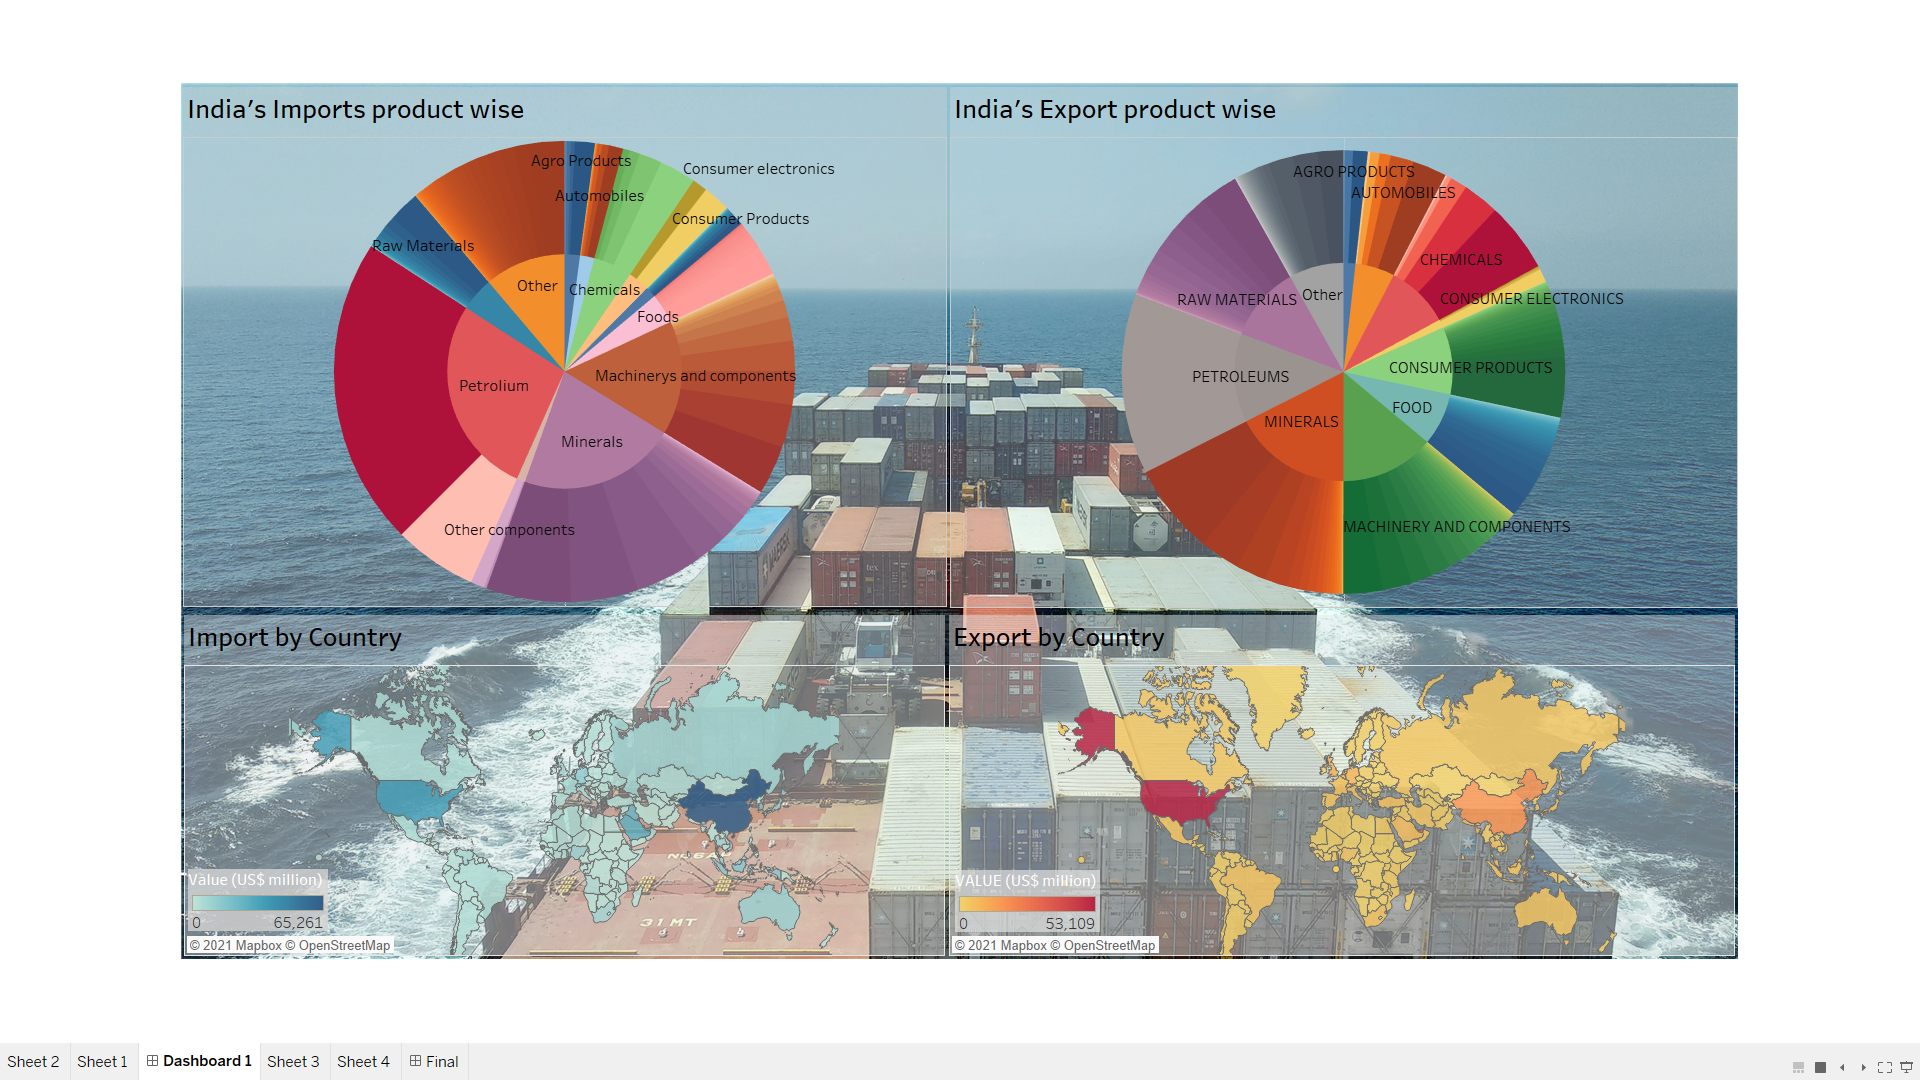

Layout of this report page (visuals, bound fields, positions):
{"tool":"tableau","page":{"name":"Dashboard 1","canvas":[1600,900],"ordinal":0},"visuals":[{"type":"worksheet","box":[0,0,1600,900]},{"type":"worksheet","param":"horz","box":[8,8,1584,884]},{"type":"worksheet","box":[8,8,1584,884]},{"type":"worksheet","param":"C:/Users/giday/Downloads/rinson-chory-aJgw1jeJcEY-unsplash.jpg","box":[8,8,1584,884]},{"type":"worksheet","title":"Sheet 1","mark":"Pie","cols":["Calculation_536209865393254403","Calculation_536209865393254403"],"box":[23,16,764,520]},{"type":"worksheet","title":"Sheet 2","mark":"Pie","cols":["Calculation_751538224571080705","Calculation_751538224571080705"],"box":[790,16,788,521]},{"type":"worksheet","title":"Sheet 4","mark":"Automatic","box":[24,544,761,341]},{"type":"worksheet","title":"Sheet 3","mark":"Automatic","box":[789,544,786,341]},{"type":"worksheet","title":"Sheet 4","mark":"Automatic","param":"[federated.0pyxzdy0kbu8or11f3bi80bcy2wr].[sum:Value (US$ million):qk]","box":[28,798,140,62]},{"type":"worksheet","title":"Sheet 3","mark":"Automatic","param":"[federated.0pyxzdy0kbu8or11f3bi80bcy2wr].[sum:VALUE (US$ million):qk]","box":[795,799,145,62]}]}

Visuals, with their boxes on the page's 1600x900 design canvas (x1, y1, x2, y2). These are canvas units, not pixel positions in the 1920x1080 screenshot, which may show the page scaled, cropped or inside an application window:
worksheet: 0/0/1600/900
worksheet: 8/8/1592/892
worksheet: 8/8/1592/892
worksheet: 8/8/1592/892
"Sheet 1" worksheet (Pie marks): 23/16/787/536
"Sheet 2" worksheet (Pie marks): 790/16/1578/537
"Sheet 4" worksheet: 24/544/785/885
"Sheet 3" worksheet: 789/544/1575/885
"Sheet 4" worksheet: 28/798/168/860
"Sheet 3" worksheet: 795/799/940/861
